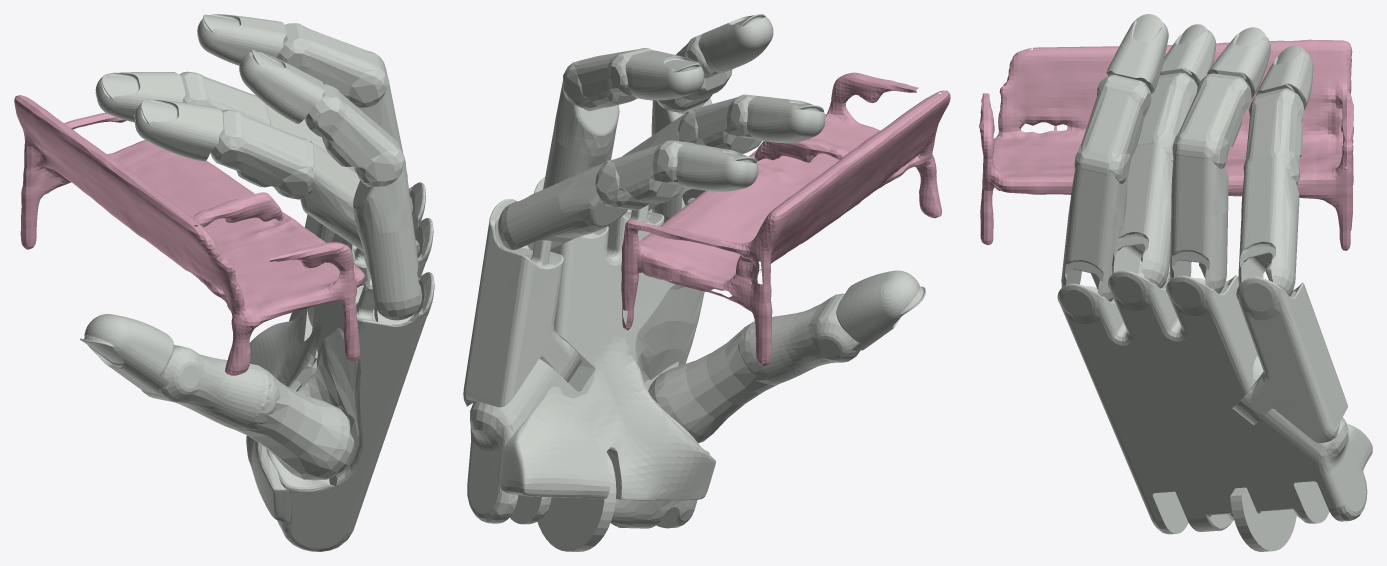
3 views of the same model, side by side, from view 1: azimuth 30°, elevation 25°; view 2: azimuth 150°, elevation 25°; view 3: azimuth 270°, elevation 25° (orthographic). The views are drawn at different scales.
Visible parts, largest first — view 1: hand_isaac_q, world; view 2: hand_isaac_q, world; view 3: hand_isaac_q, world.
Part boxes in pixels (x1,y1,x2,y2): hand_isaac_q: [80, 14, 434, 551]; world: [14, 95, 364, 375]; hand_isaac_q: [463, 14, 925, 551]; world: [621, 72, 950, 366]; hand_isaac_q: [1057, 14, 1372, 551]; world: [979, 39, 1353, 250].
Size of the model in its own units: 0.1363 by 0.186 by 0.1377.
